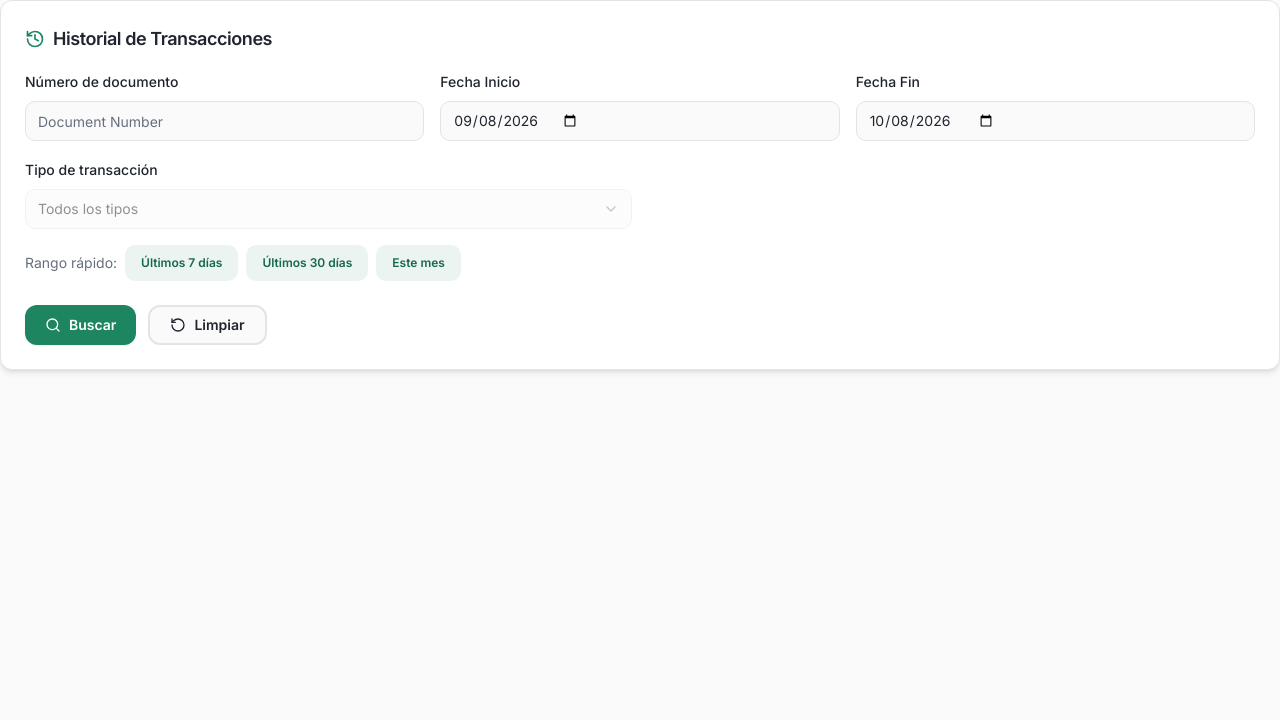
Test: TransactionHistory › renders and fetches transactions successfully (200)
This screenshot has width=1280, height=720.
Type "3001234567" into the field with placeholder "Document Number" at (225, 121), box x1=25 y1=101 x2=424 y2=141
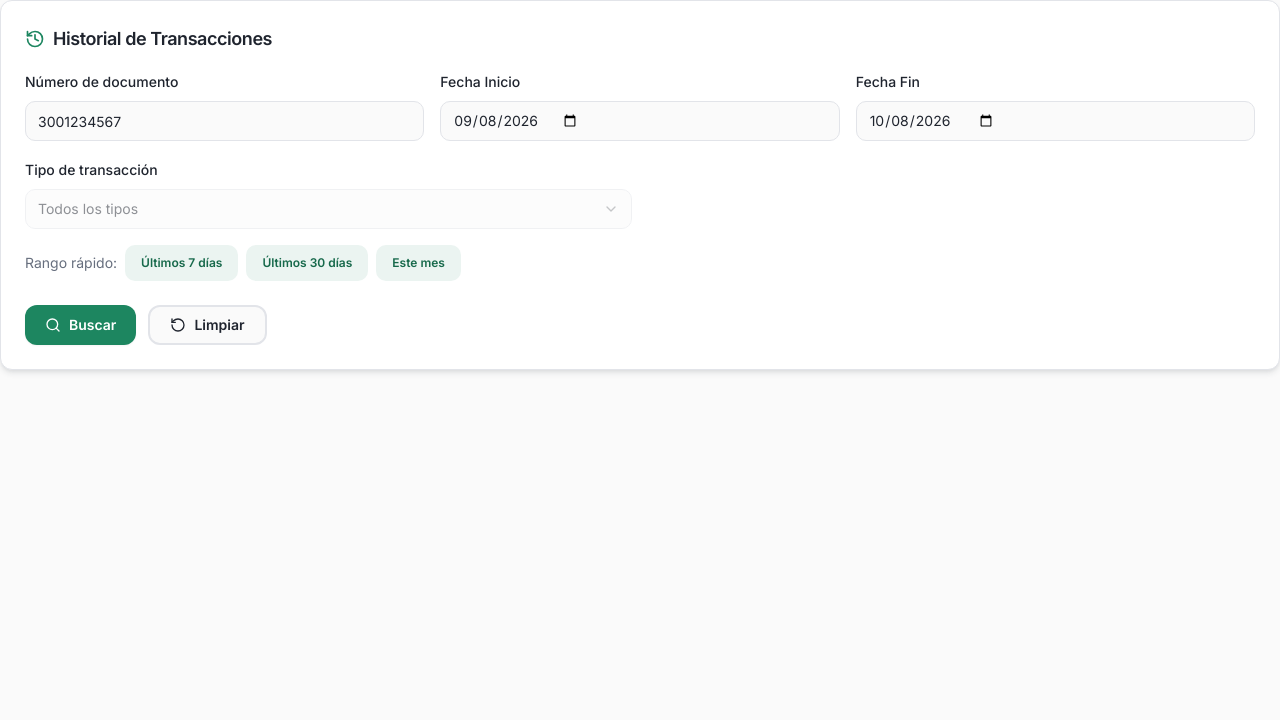
Type "2023-10-01" into the date field with test id "th-startDate" at (640, 121), box x1=440 y1=101 x2=840 y2=141
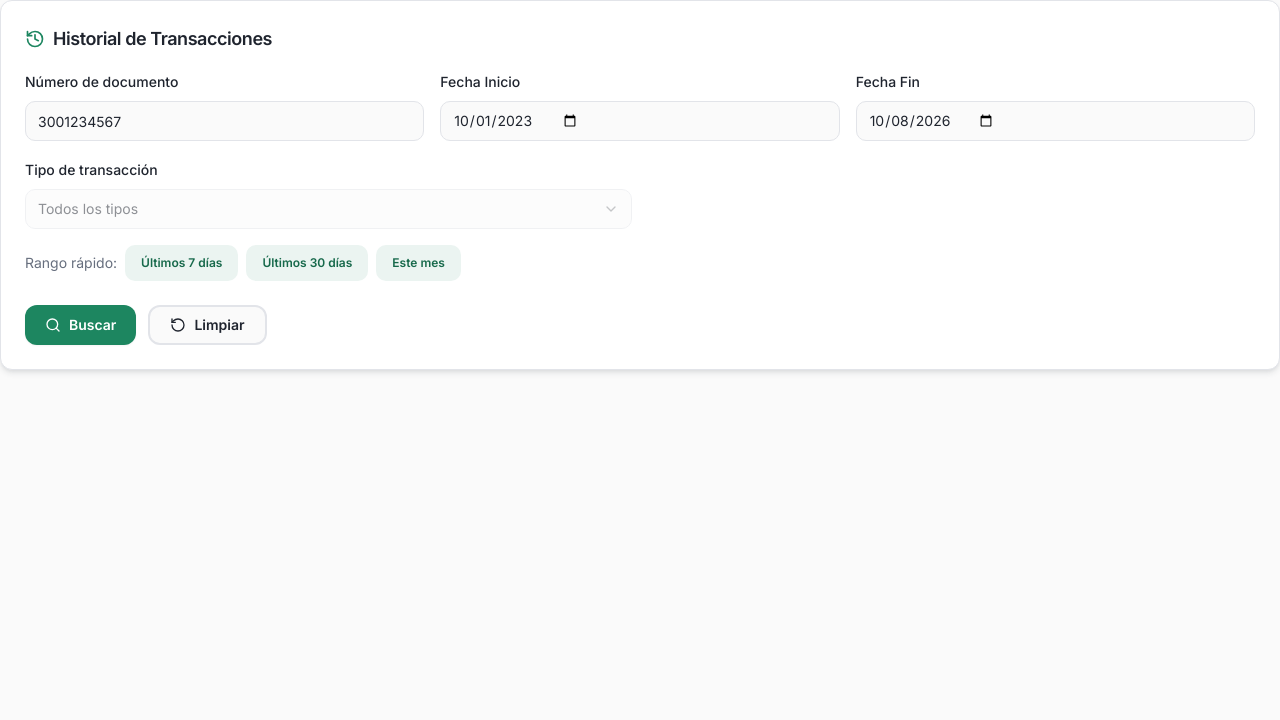
Type "2023-10-10" into the date field with test id "th-endDate" at (1055, 121), box x1=856 y1=101 x2=1255 y2=141
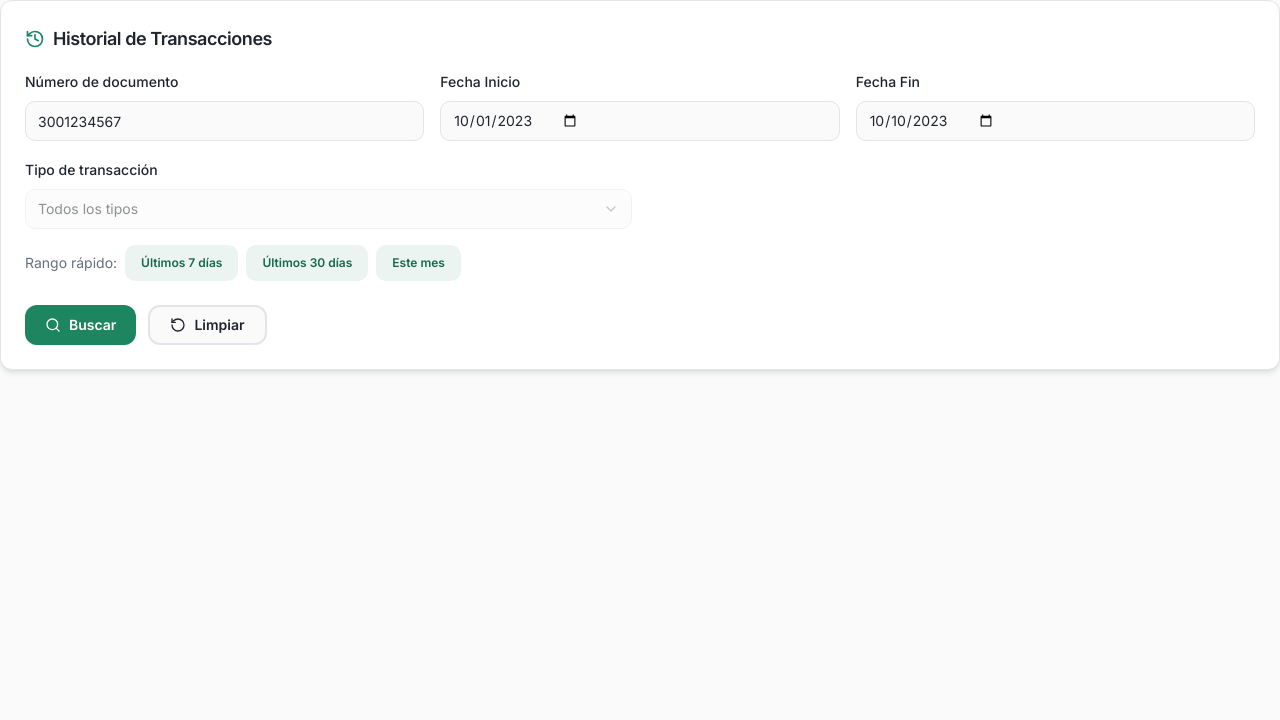
Click the button "Buscar" at (81, 325), box x1=25 y1=305 x2=136 y2=345
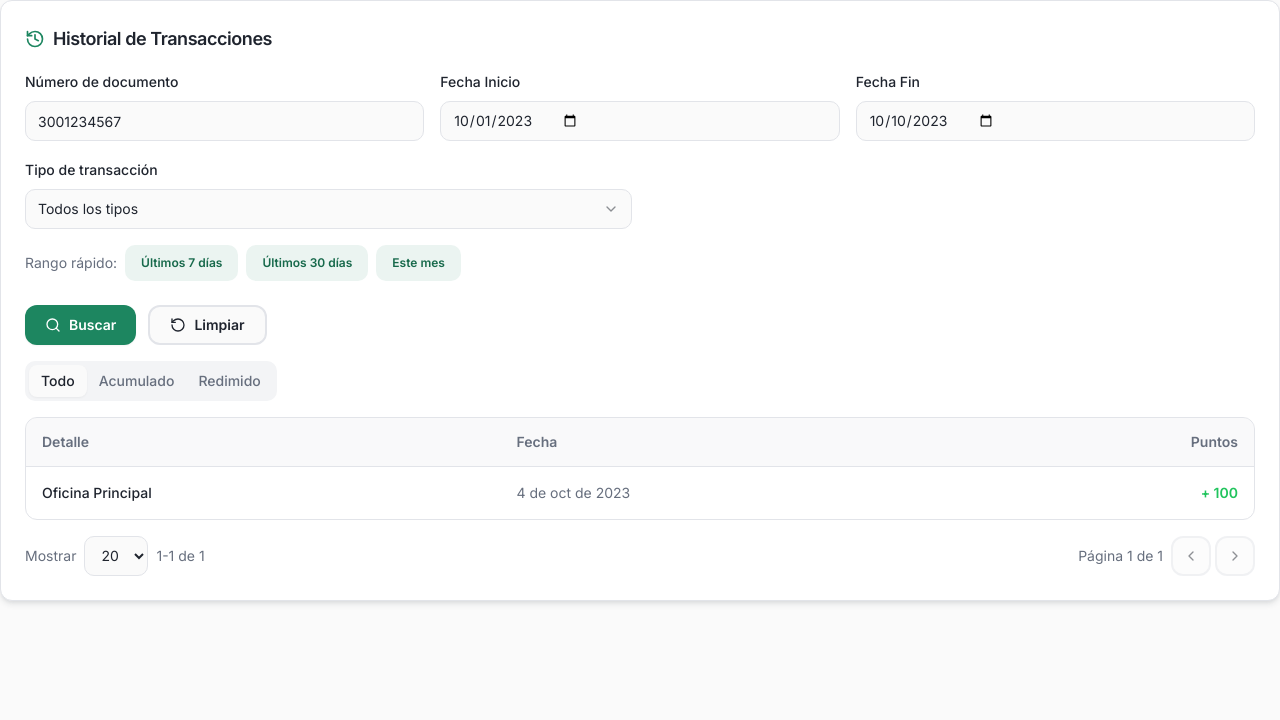
Result: the text "Oficina Principal" is shown at x1=42 y1=484 x2=152 y2=500
